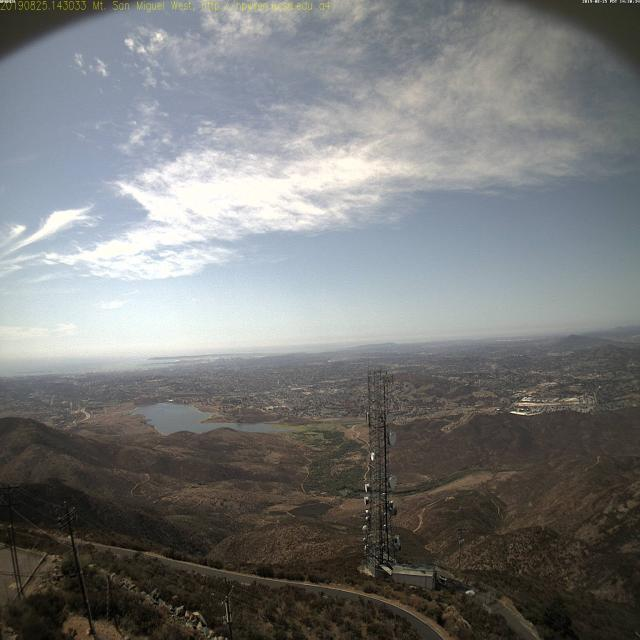smoke: (324, 346, 347, 370)
